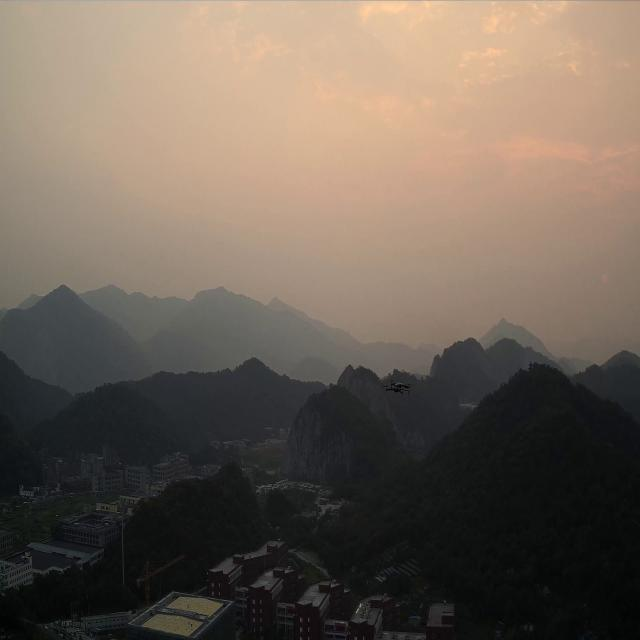UAV: (382, 380, 410, 394)
